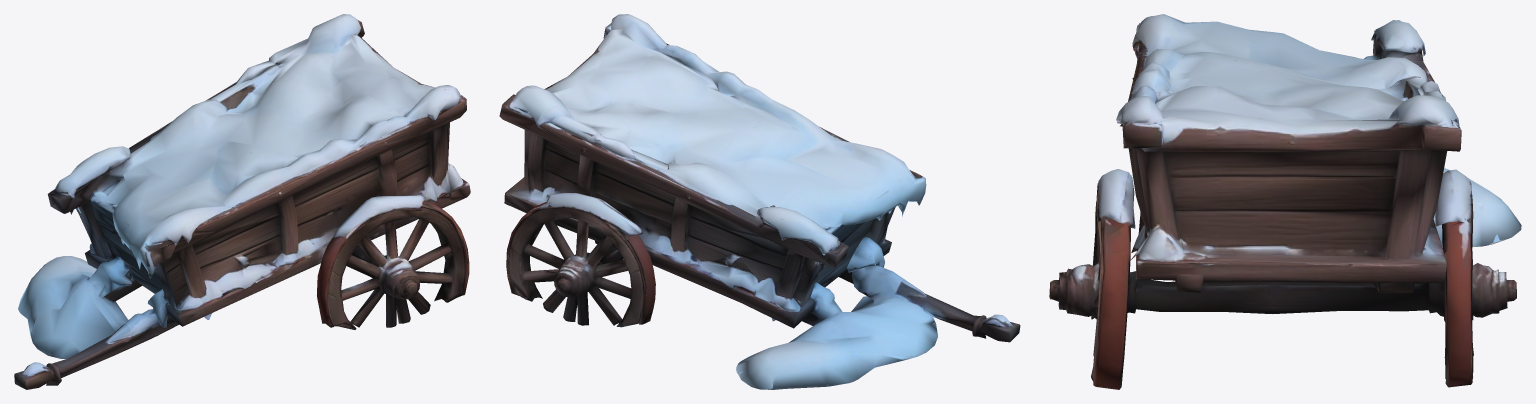
File: snowcart2.opt.glb
3 views of the same model, side by side, from view 1: azimuth 30°, elevation 25°; view 2: azimuth 150°, elevation 25°; view 3: azimuth 270°, elevation 25° (orthographic). The views are drawn at different scales.
Visible parts, largest first — view 1: node_0; view 2: node_0; view 3: node_0.
Part boxes in pixels (left/top/right/bottom): node_0: left=14, top=14, right=470, bottom=389; node_0: left=499, top=14, right=1020, bottom=389; node_0: left=1049, top=14, right=1521, bottom=389.
Bounding box in the file's own units: 1.05 × 0.5055 × 0.6861.
1 material, 1 textured.
